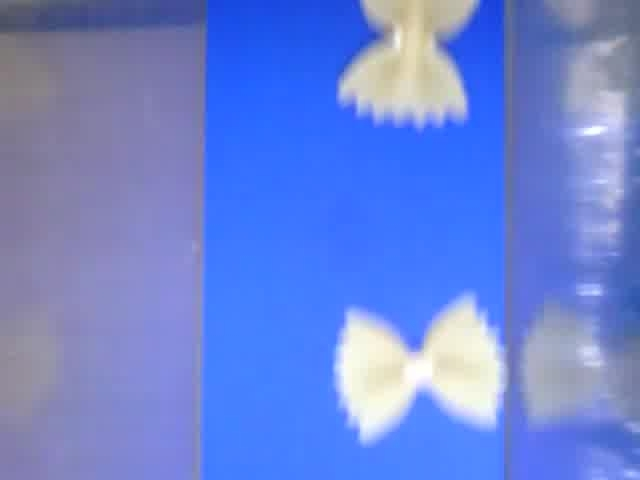farfalle: (337, 291, 507, 448), (338, 1, 481, 128)
